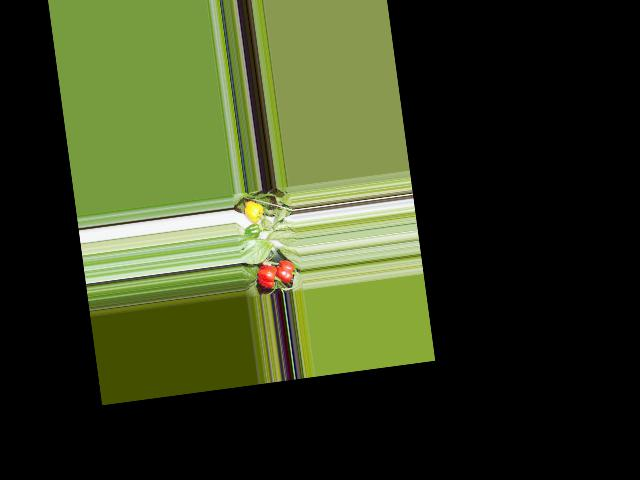bell_pepper: (241, 197, 265, 224)
